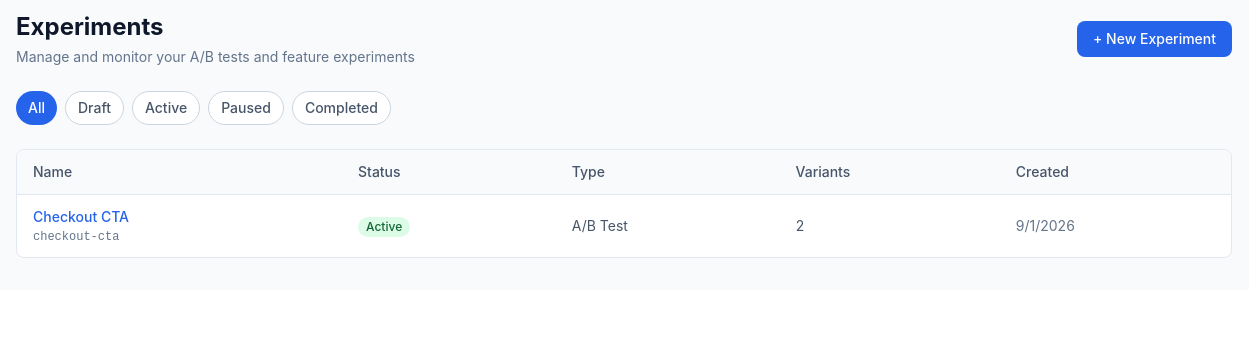
Test: ExperimentsPage › shows a plain empty state (not the checklist) when a filter yields nothing
expect the element with test id "experiments-table" is shown: met, box left=16, top=149, right=1232, bottom=258
Click the button with test id "filter-completed".
click(341, 108)  # box left=292, top=91, right=391, bottom=125
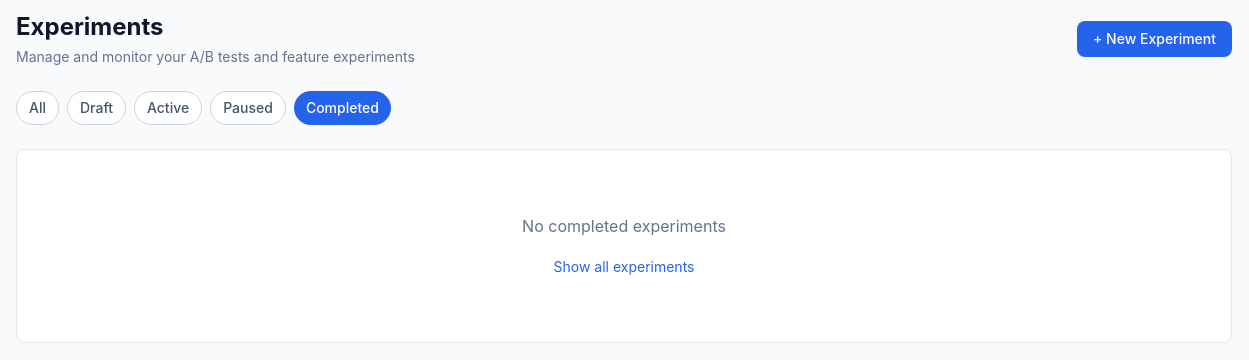
expect the element with test id "experiments-empty" shows "No completed experiments": met, box left=16, top=149, right=1232, bottom=343
Click the button "Show all experiments".
click(624, 267)  # box left=554, top=257, right=694, bottom=277
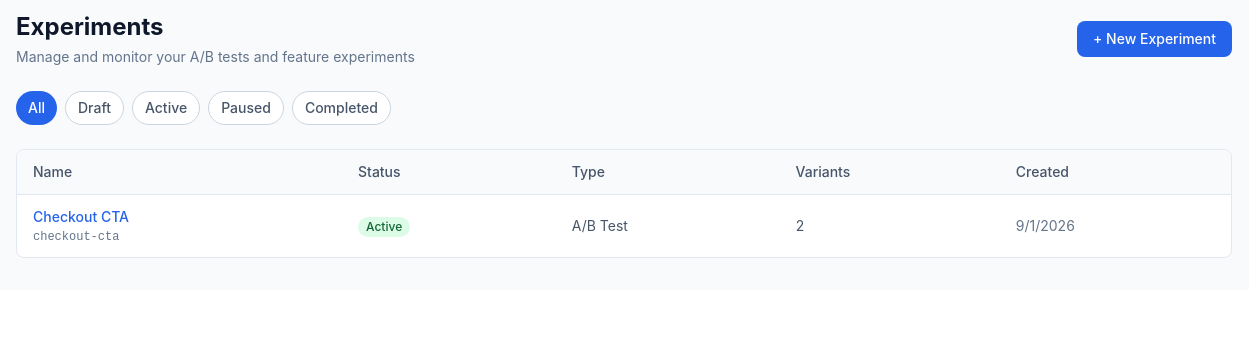
expect the element with test id "experiments-table" is shown: met, box left=16, top=149, right=1232, bottom=258
